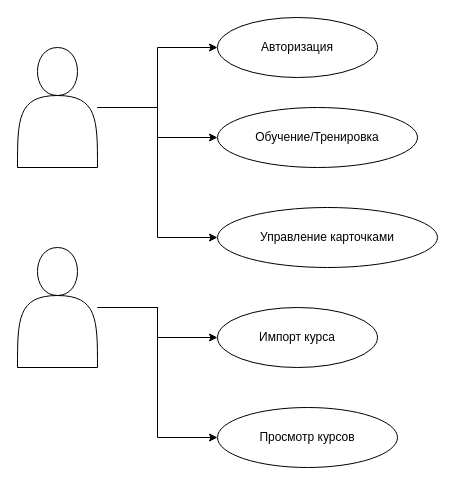
Image size: 455x485. Some labels were removed from this diagram. The shapes that lost their labels are listed below. From the top down, each one's box as (x1, y1, x2, y2) in pixels, then its label:
(16, 46, 98, 168): Пользователь
(16, 246, 98, 368): Админ
